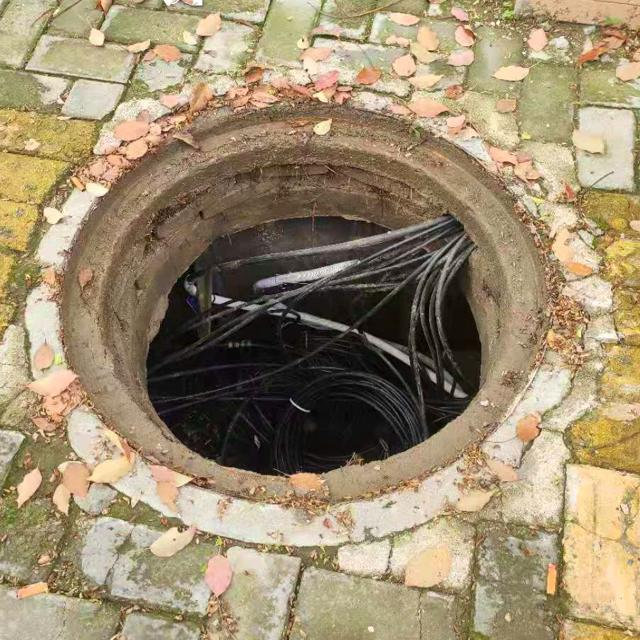lose: (24, 86, 580, 546)
